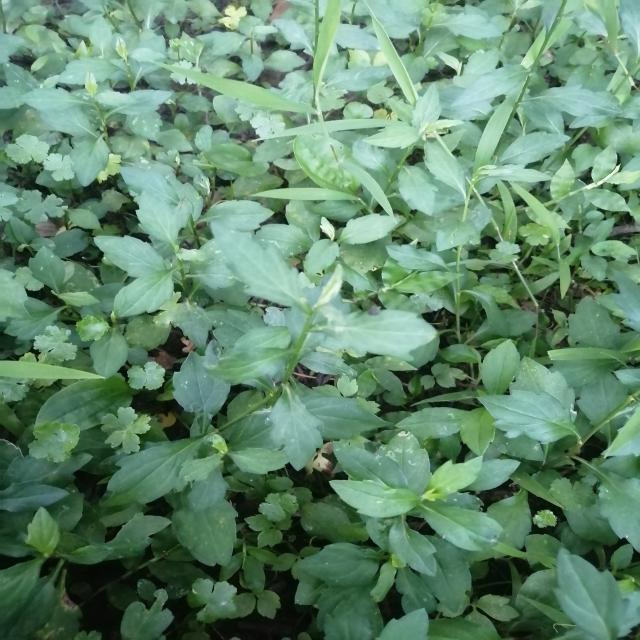Indian aster: (188, 247, 455, 420), (352, 440, 508, 577)
